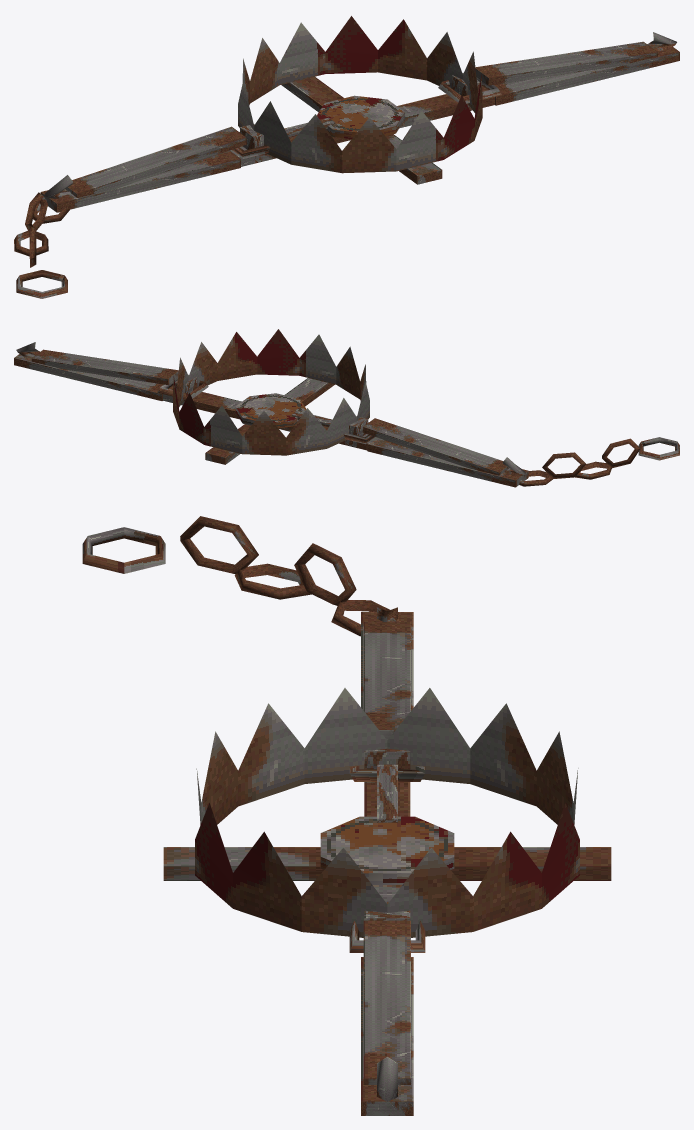
Rendered from bear_trap.glb.
3 renders of one model, top to bottom at view 1: azimuth 30°, elevation 25°; view 2: azimuth 150°, elevation 25°; view 3: azimuth 270°, elevation 25°, orthographic. The views are drawn at different scales.
Visible parts, largest first — view 1: bear_trap; view 2: bear_trap; view 3: bear_trap.
Part boxes in pixels (bbox=[...]): bear_trap: bbox=[14, 16, 679, 298]; bear_trap: bbox=[14, 329, 679, 487]; bear_trap: bbox=[82, 516, 611, 1115].
Size of the model in its own units: 1.05 by 0.0896 by 0.4015.
Materials: 1 (1 with a texture image).
